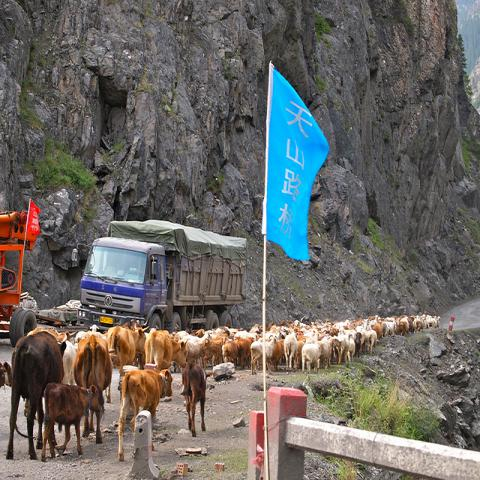truck: (73, 219, 250, 332), (0, 198, 42, 347)
